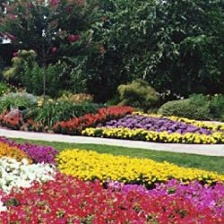neutral: (7, 4, 222, 224)
